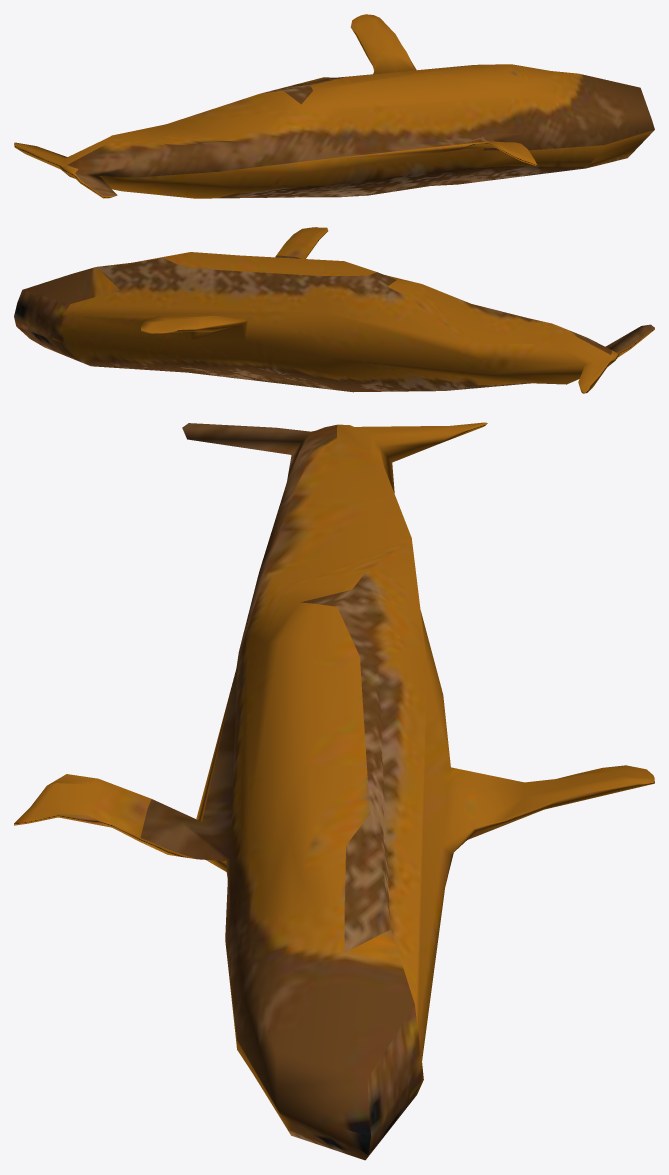
The model's file is SeaLion.fbx.
The picture shows the model from 3 angles, top to bottom: view 1: azimuth 30°, elevation 25°; view 2: azimuth 150°, elevation 25°; view 3: azimuth 270°, elevation 25°; orthographic projection. The views are drawn at different scales.
Parts seen in each view (by area): view 1: pSphere5; view 2: pSphere5; view 3: pSphere5.
Boxes of the visible parts, x1,y1,x2,y2 form: pSphere5: [14, 14, 654, 198]; pSphere5: [14, 227, 654, 393]; pSphere5: [14, 422, 654, 1160].
Size of the model in its own units: 11.44 by 2.62 by 5.71.
Materials: 1 (1 with a texture image).
